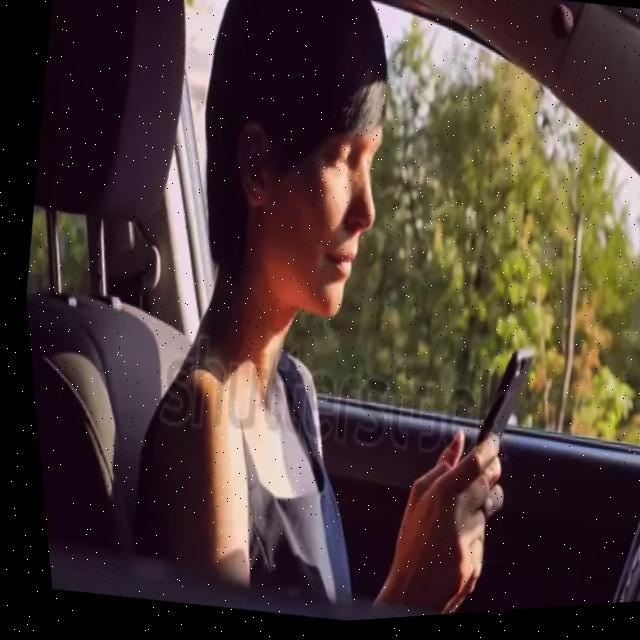PhoneCall: (452, 340, 536, 493)
